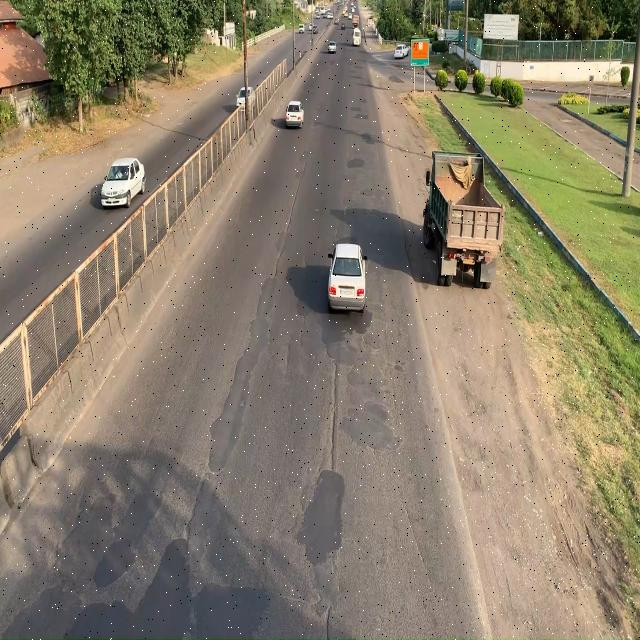Truck: (424, 156, 508, 298)
cars: (325, 243, 370, 313), (102, 158, 146, 207), (285, 101, 306, 130)
